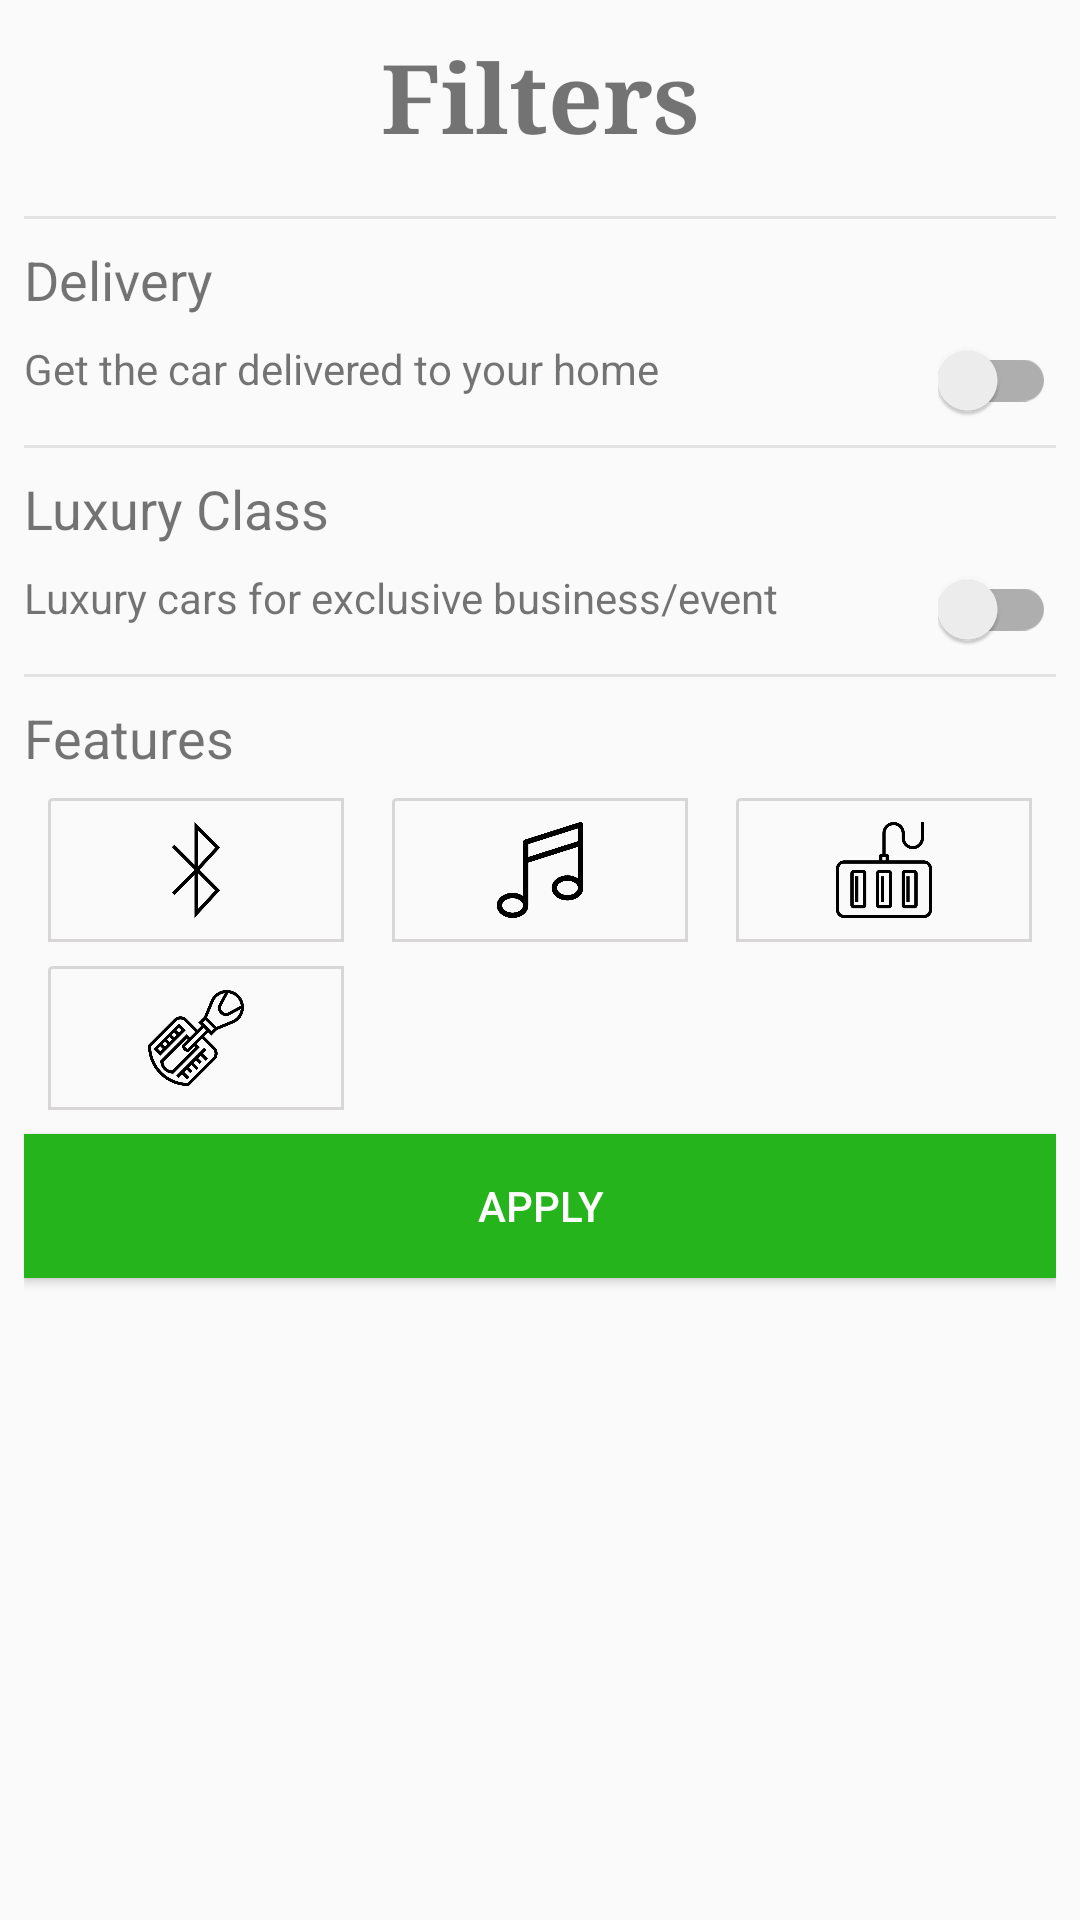

Icons on this 1080px×1920px Android screen, each with the point to tap as [x,y]:
gear auto: [196,1038]
music: [540,870]
usb: [884,870]
